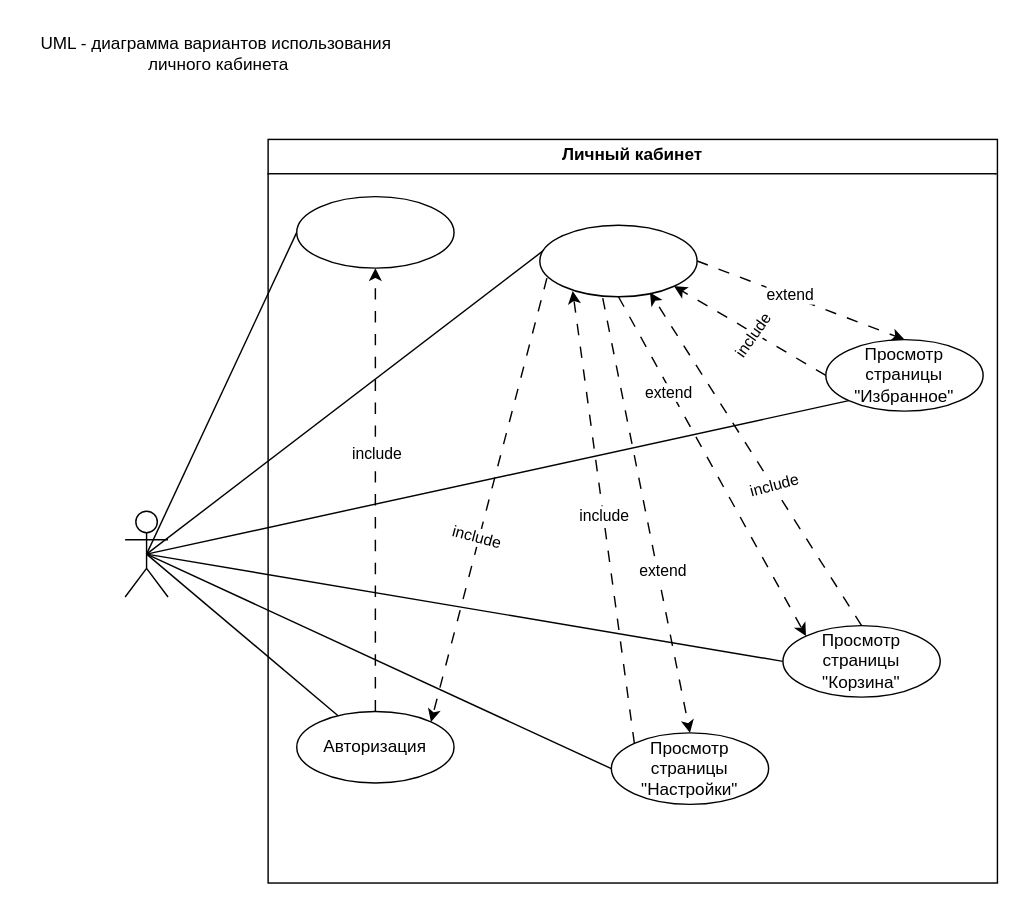
Some shapes in this 1022 by 908 pixel diagram are drawn without their labels. The centre of each missing label's shape, as x and y in pixels:
Вход в личный кабинет: (x=617, y=260)
Пользователь: (x=146, y=553)
Регистрация: (x=374, y=231)
